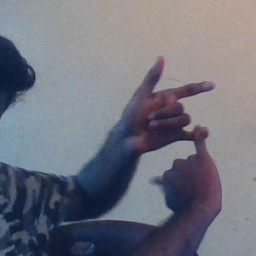S: (111, 51, 238, 203)
